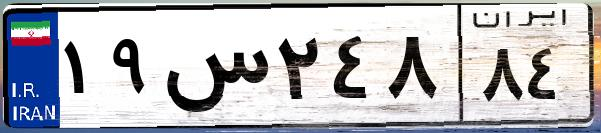1: (57, 26, 110, 100)
2: (270, 28, 330, 110)
4: (330, 28, 385, 110), (525, 38, 570, 115)
8: (385, 28, 445, 110), (475, 38, 525, 113)
9: (110, 28, 158, 98)
س: (158, 20, 270, 120)
